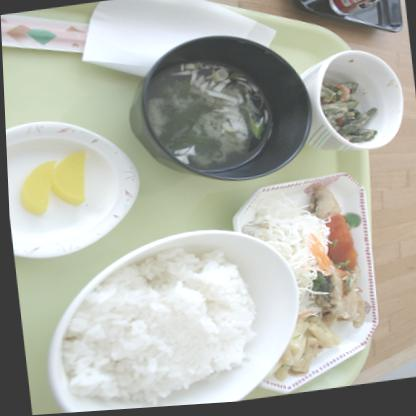miso soup: (131, 34, 308, 188)
rice ball: (48, 237, 271, 413)
